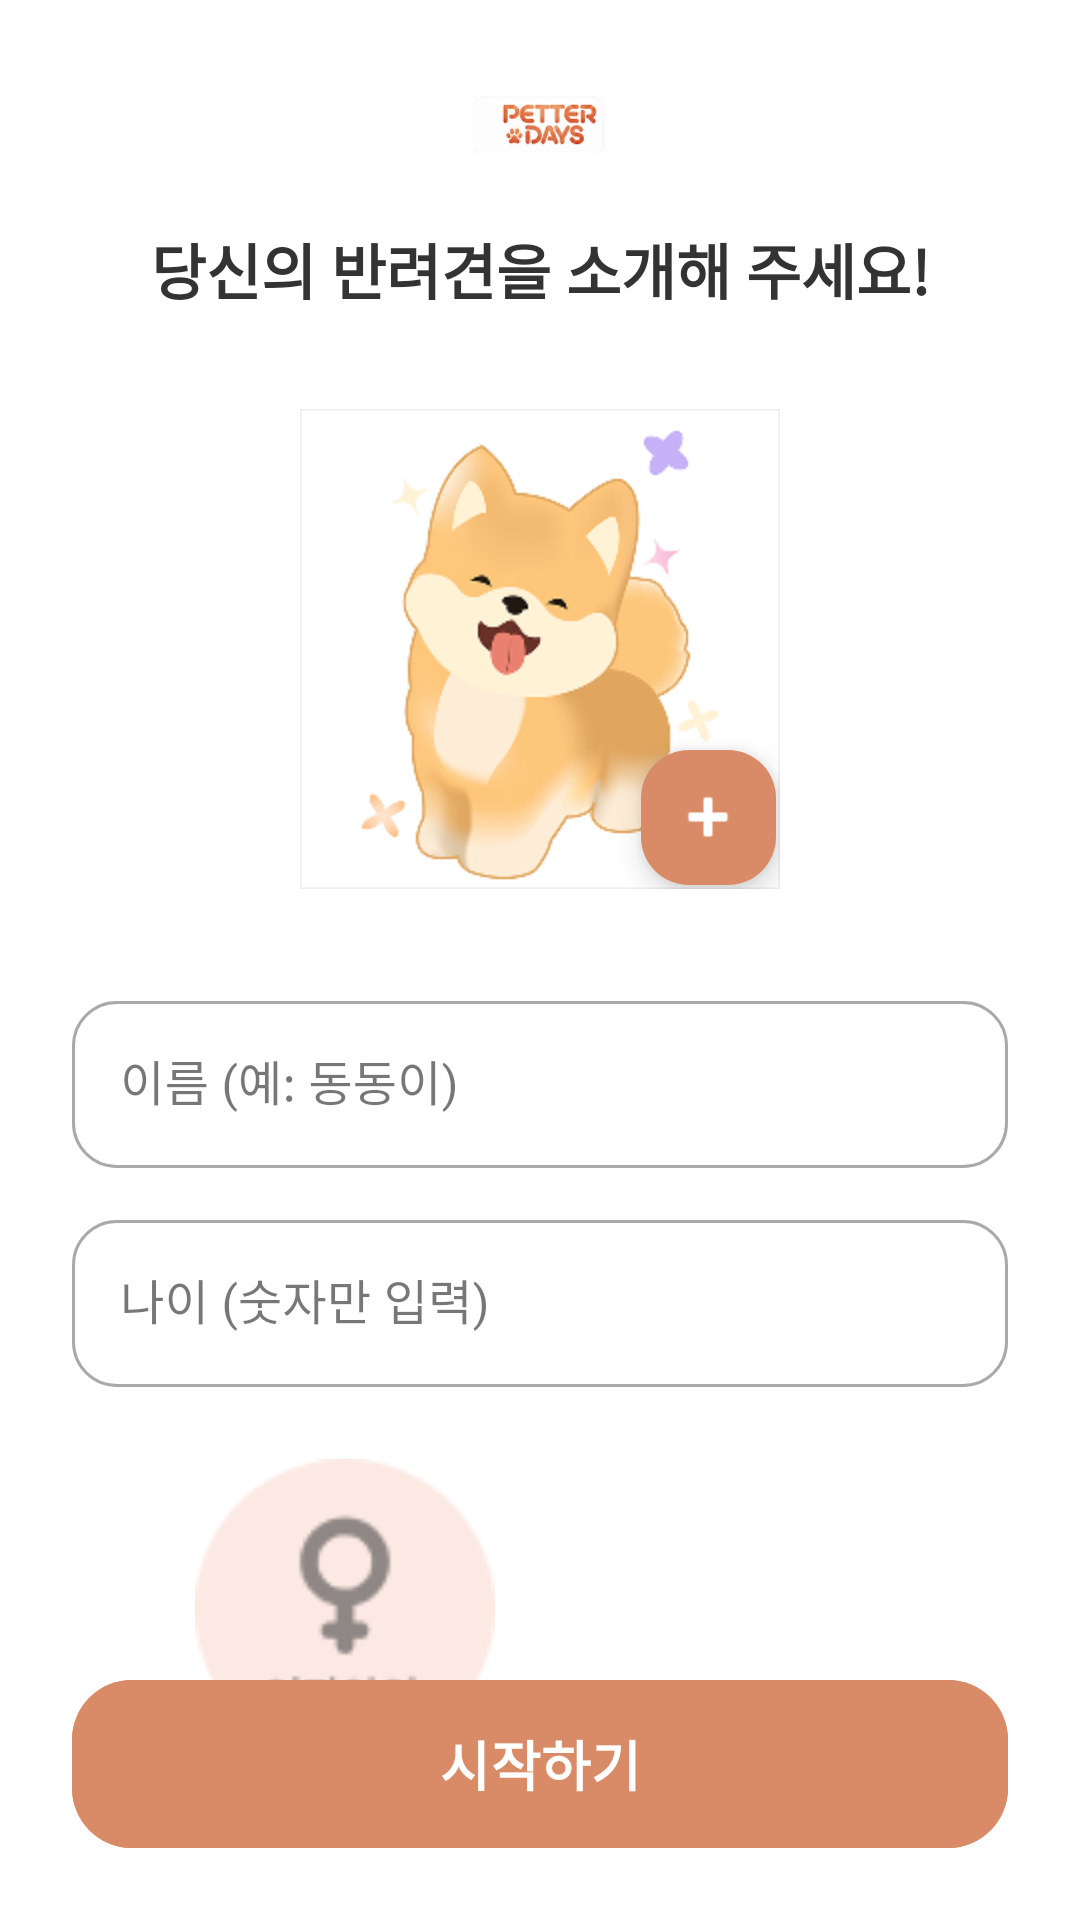

Named icons in this screenshot (1080w x 1920h) and their centers, (x=x, y=y):
female: (x=345, y=1609)
